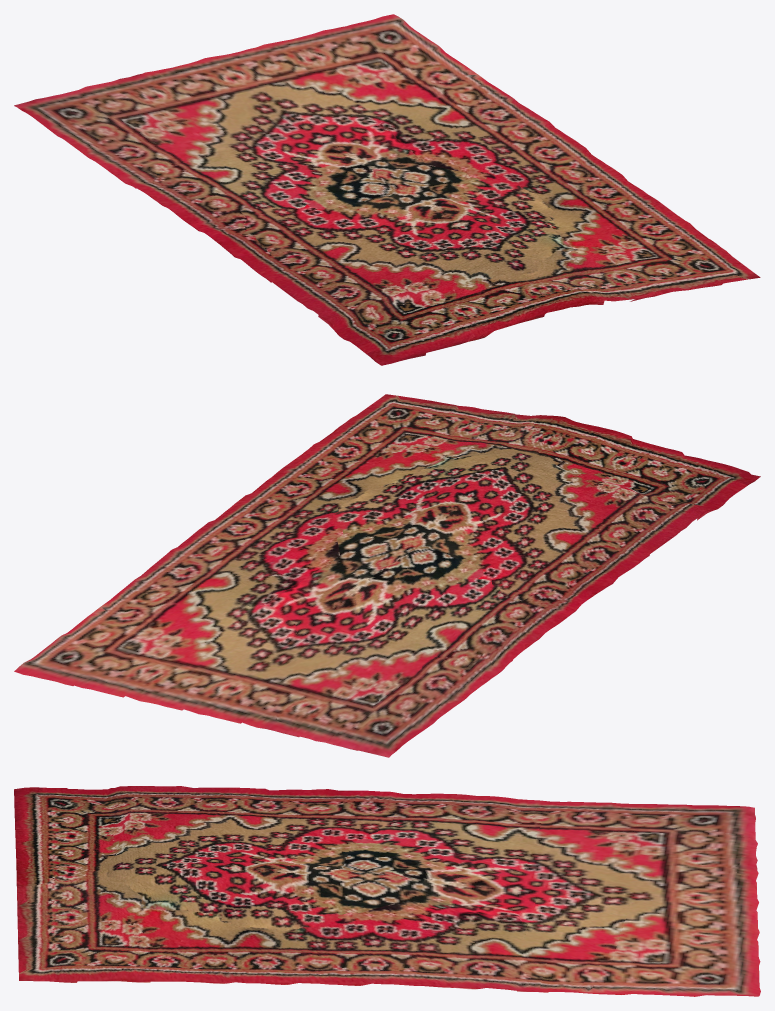
The model's file is carpet.glb.
The picture shows the model from 3 angles, top to bottom: view 1: azimuth 30°, elevation 25°; view 2: azimuth 150°, elevation 25°; view 3: azimuth 270°, elevation 25°; orthographic projection. The views are drawn at different scales.
Visible parts, largest first — view 1: Object_2; view 2: Object_2; view 3: Object_2.
Boxes of the visible parts, x1,y1,x2,y2 form: Object_2: [14, 14, 760, 365]; Object_2: [14, 394, 760, 757]; Object_2: [14, 786, 760, 996].
Size of the model in its own units: 0.5543 by 0.0496 by 0.9315.
1 material, 1 textured.
